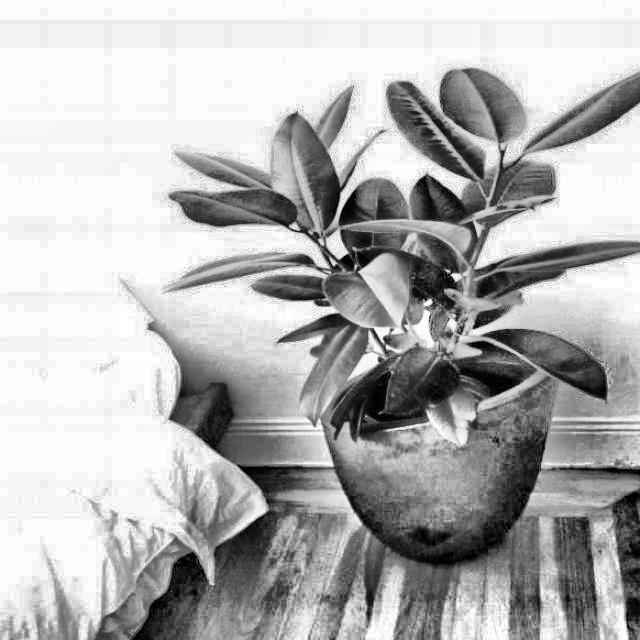plants: (196, 124, 592, 391)
